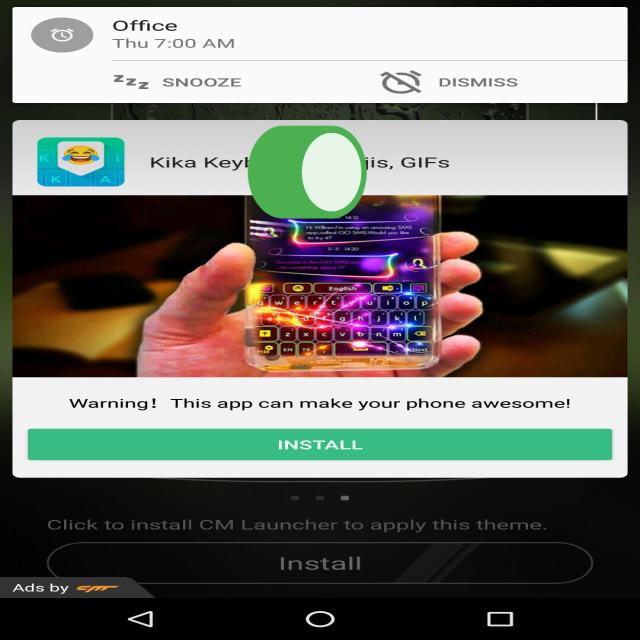social proof: (242, 90, 372, 261)
